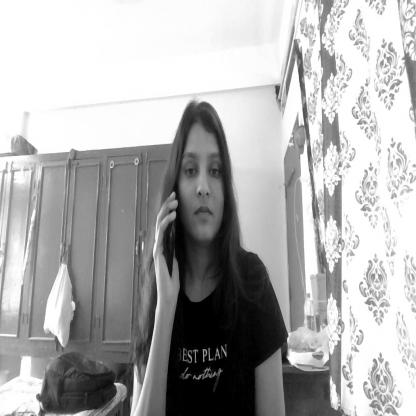Normal: (171, 102, 232, 252)
